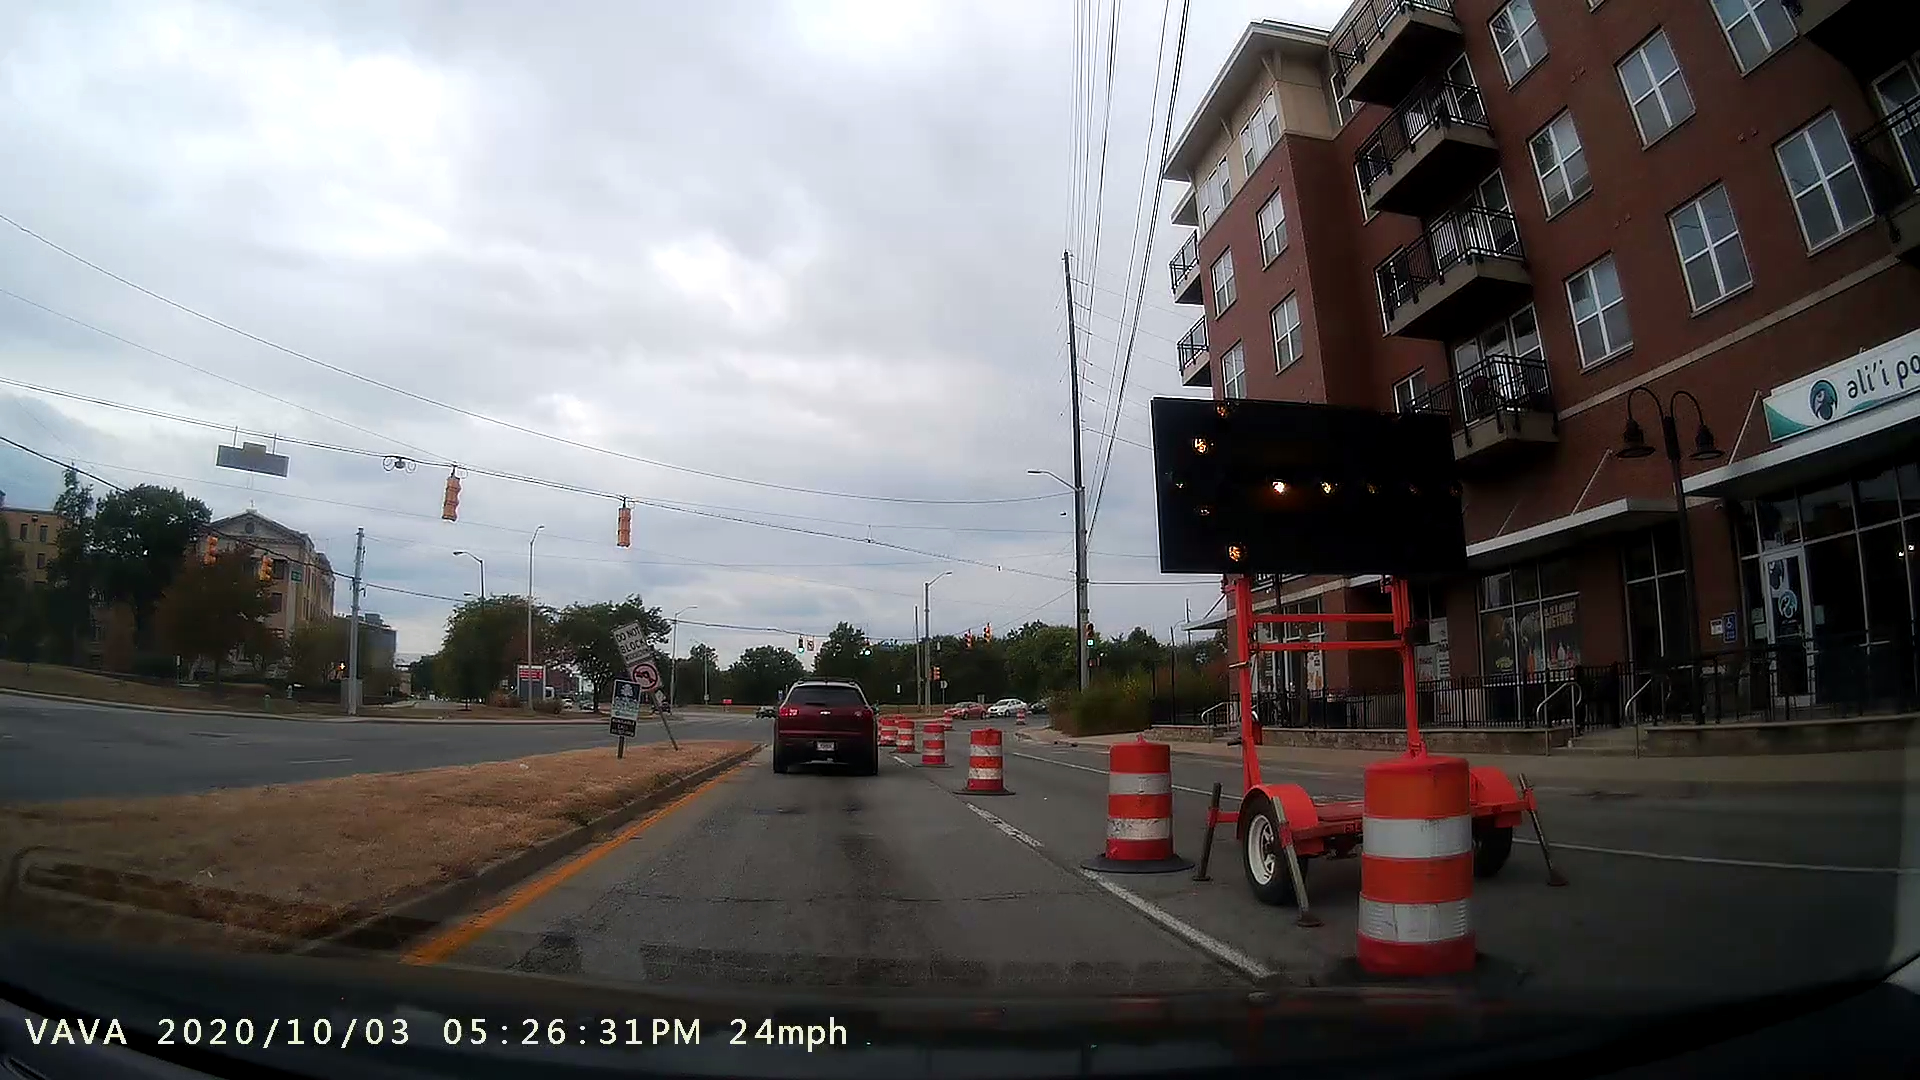const_barrel: (1298, 750, 1509, 993), (1088, 721, 1193, 880), (956, 712, 1015, 796), (916, 713, 952, 777)
